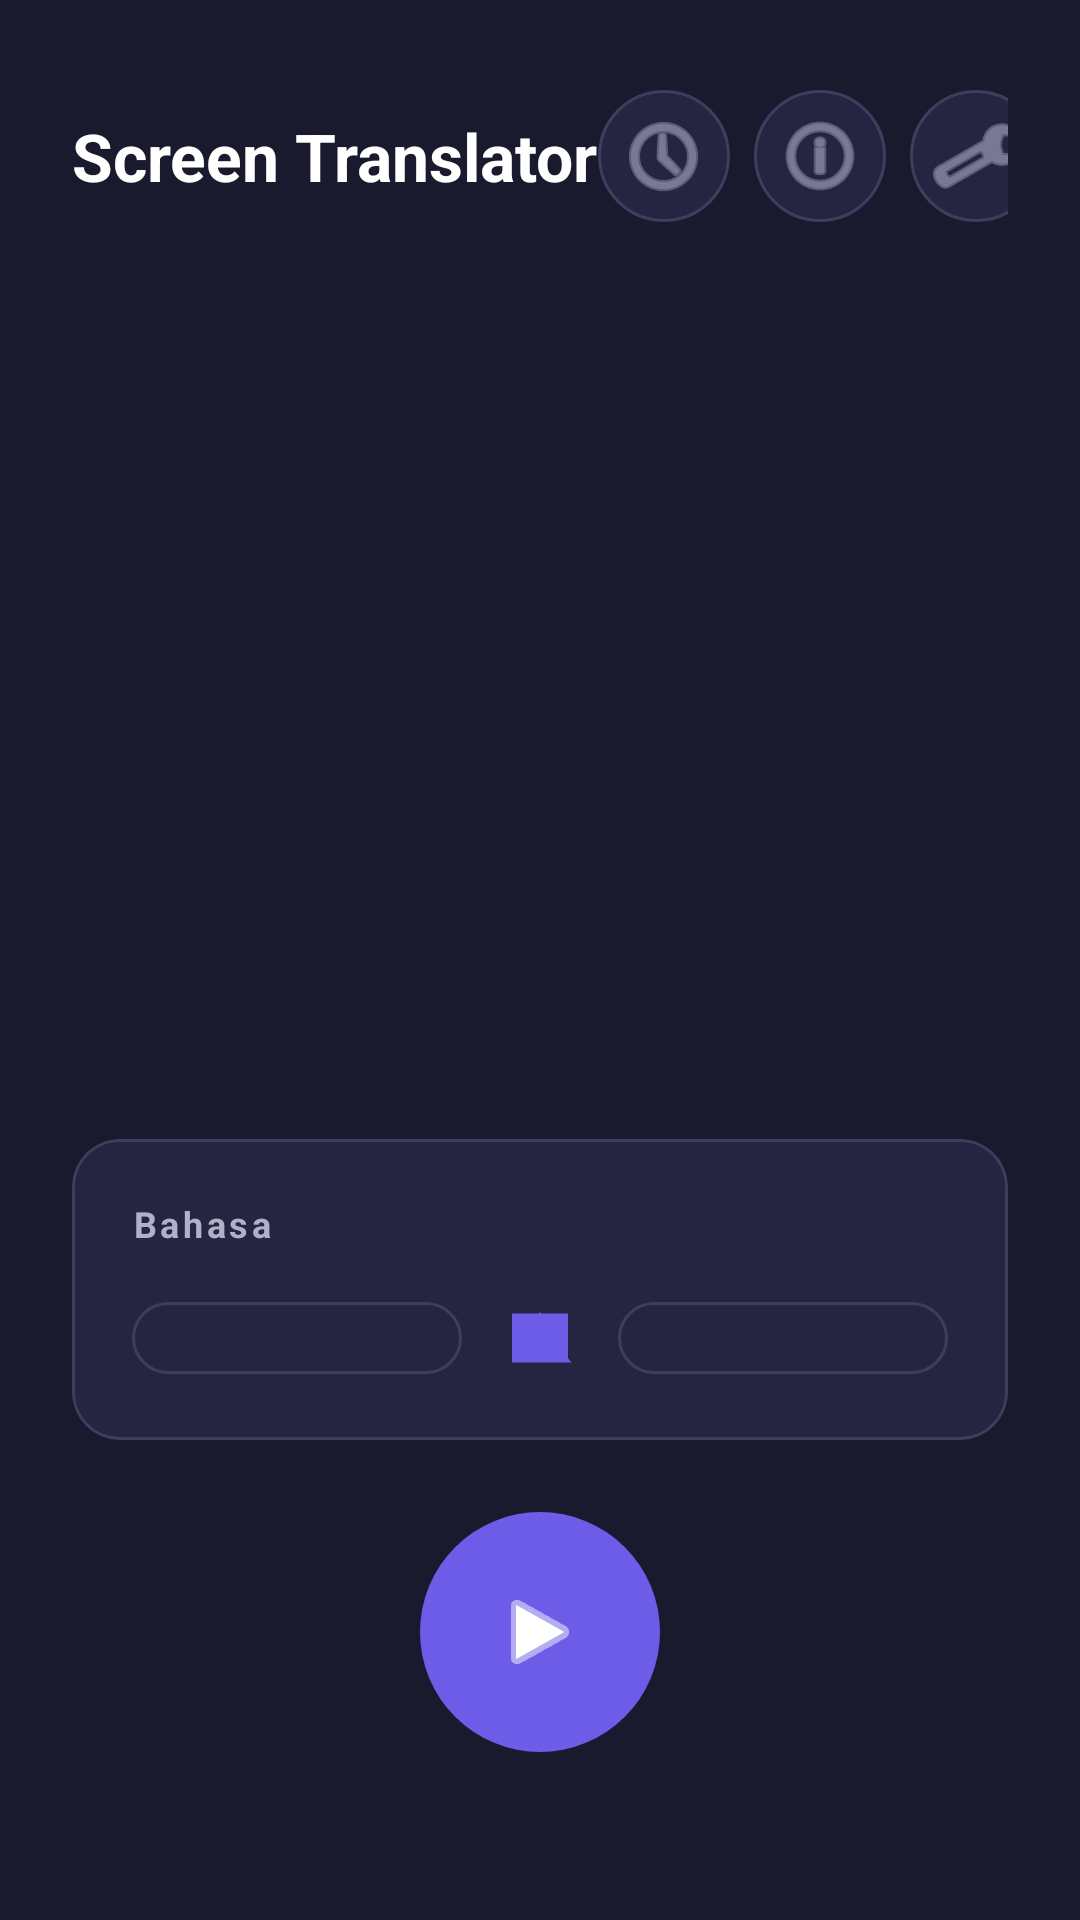

Screen size 1080w x 1920h. Icon name, then its center in pixels as [x,y]:
Mulai Terjemahan: [540,1632]
Riwayat: [664,156]
